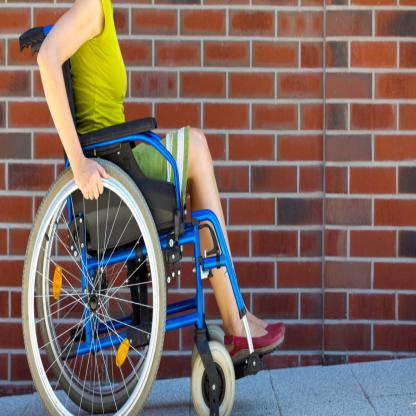wheelchair: (16, 0, 290, 415)
